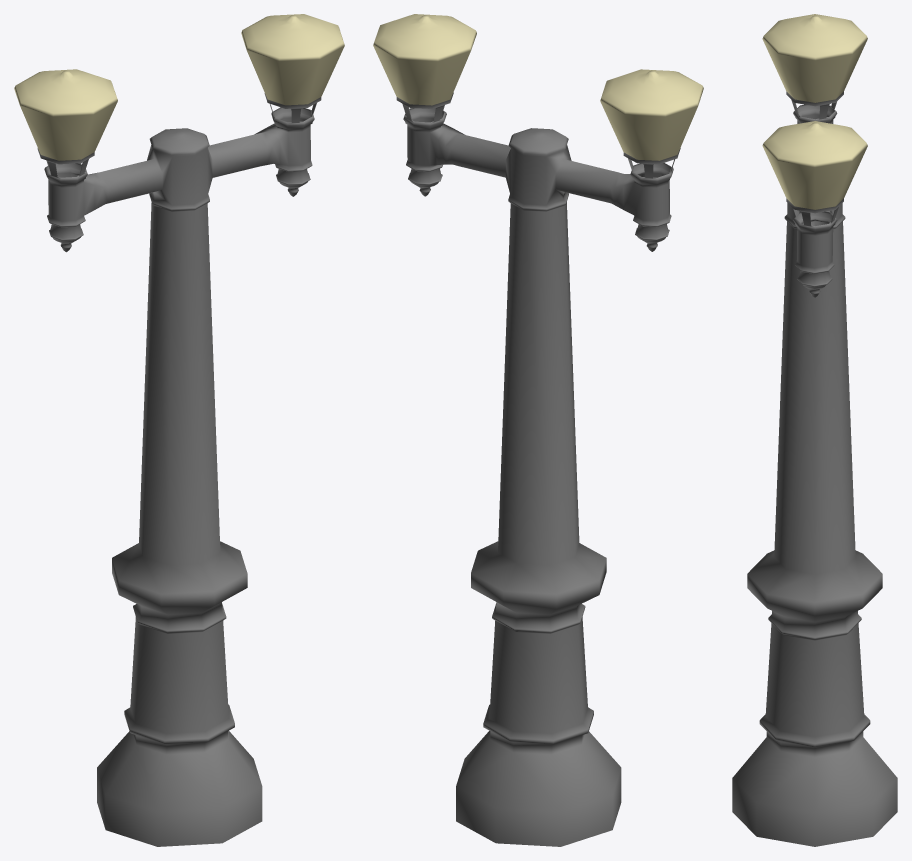
Rendered from poste_leleu.fbx.
The picture shows the model from 3 angles, left to right: view 1: azimuth 30°, elevation 25°; view 2: azimuth 150°, elevation 25°; view 3: azimuth 270°, elevation 25°; orthographic projection. The views are drawn at different scales.
Visible parts, largest first — view 1: poste; view 2: poste; view 3: poste.
Part boxes in pixels (x1=…): poste: x1=14, y1=14, x2=344, y2=846; poste: x1=373, y1=14, x2=703, y2=846; poste: x1=732, y1=14, x2=897, y2=846.
Bounding box in the file's own units: 228 × 525 × 106.
